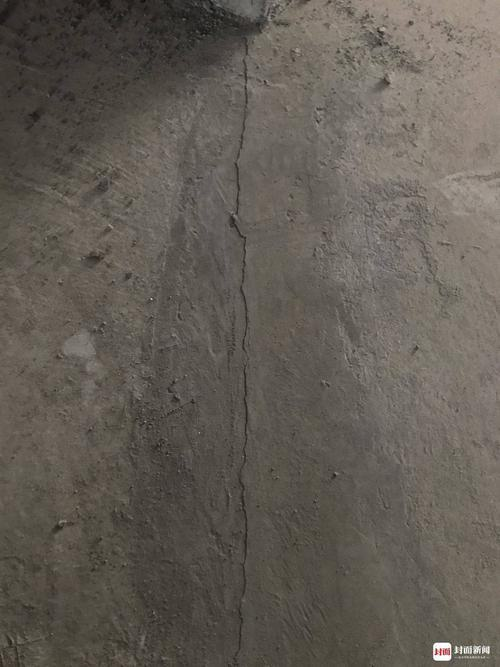Crack: (231, 28, 250, 667)
